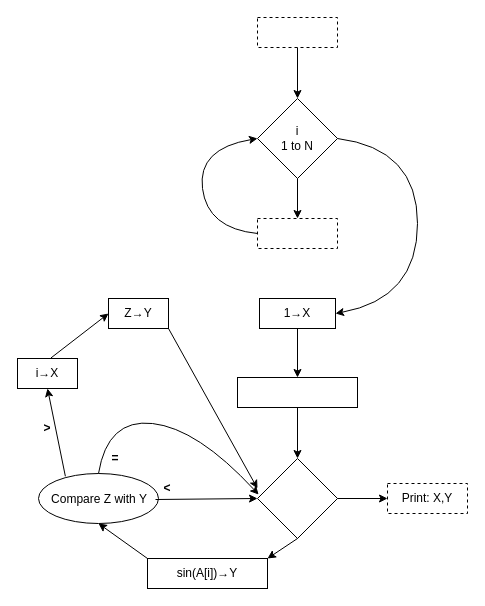
The diagram is 485 pixels wide and 606 high, and some of its shapes have lost their labels. Each missing label, with the centre of its shape:
i 2 to N: point 297,498
Input: A[i]: point 297,233
Input: N: point 297,32
sin(A[1])→Y: point 297,392
